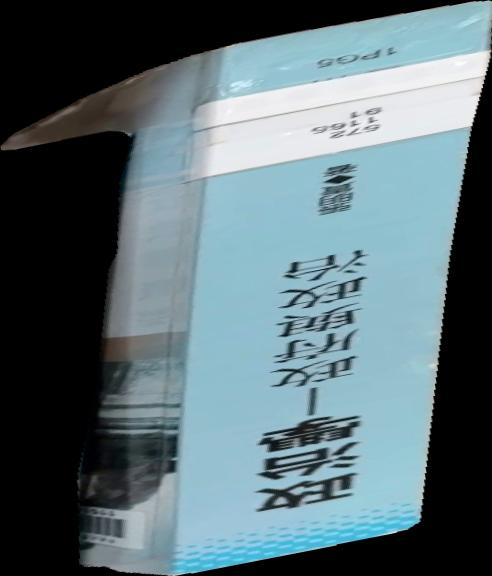reverse: (1, 1, 492, 576)
